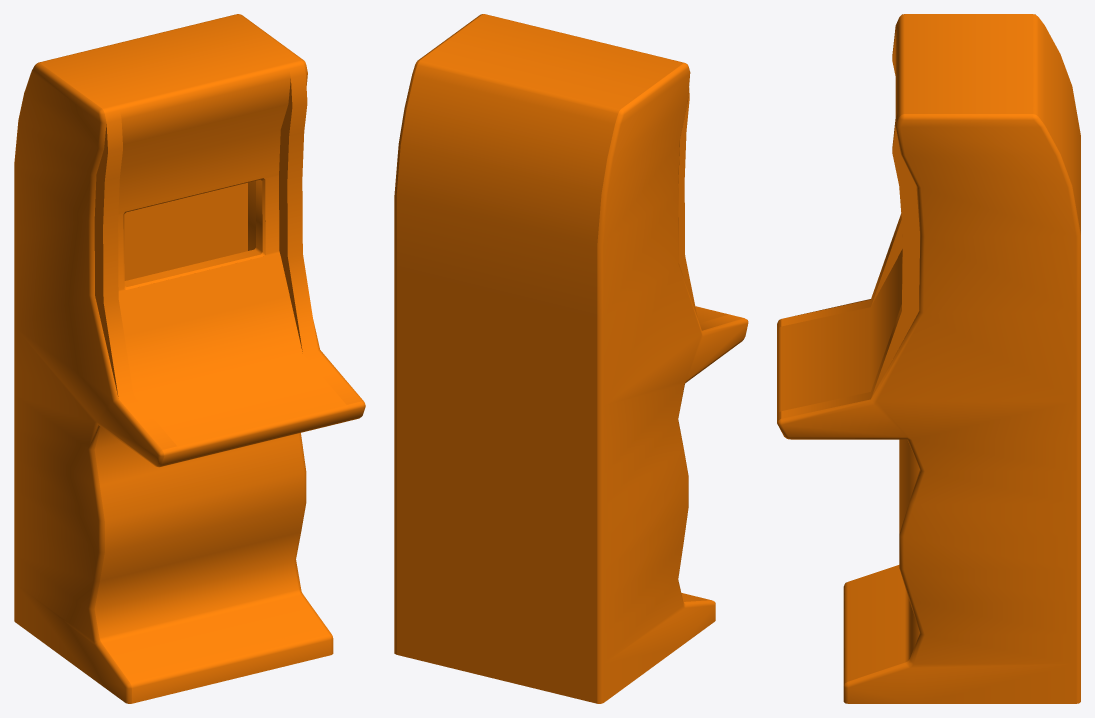
3 views of the same model, side by side, from view 1: azimuth 30°, elevation 25°; view 2: azimuth 150°, elevation 25°; view 3: azimuth 270°, elevation 25° (orthographic). The views are drawn at different scales.
Visible parts, largest first — view 1: box, box_lines; view 2: box, box_lines; view 3: box, box_lines.
Boxes of the visible parts, box(x1,y1,x2,y2) form: box: box(14, 14, 365, 703); box_lines: box(39, 14, 363, 703); box: box(394, 14, 748, 703); box_lines: box(396, 14, 743, 703); box: box(777, 14, 1080, 703); box_lines: box(777, 14, 1080, 685).
Bounding box in the file's own units: 0.7565 × 2 × 0.9359.
